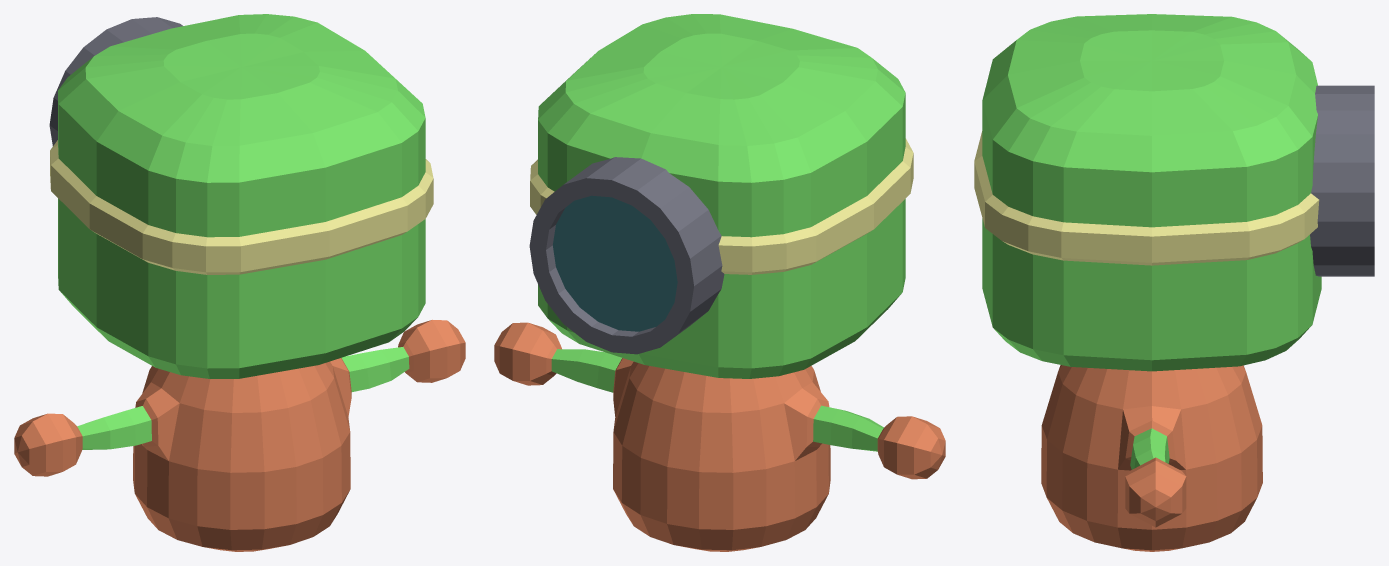
The model's file is Character_1.fbx.
3 views of the same model, side by side, from view 1: azimuth 30°, elevation 25°; view 2: azimuth 150°, elevation 25°; view 3: azimuth 270°, elevation 25° (orthographic).
Parts seen in each view (by area): view 1: pCylinder11; view 2: pCylinder11; view 3: pCylinder11.
Boxes of the visible parts, bbox=[...] form: pCylinder11: bbox=[14, 14, 465, 551]; pCylinder11: bbox=[494, 14, 945, 551]; pCylinder11: bbox=[974, 14, 1374, 551].
Bounding box in the file's own units: 3.44 × 3.42 × 2.66.
